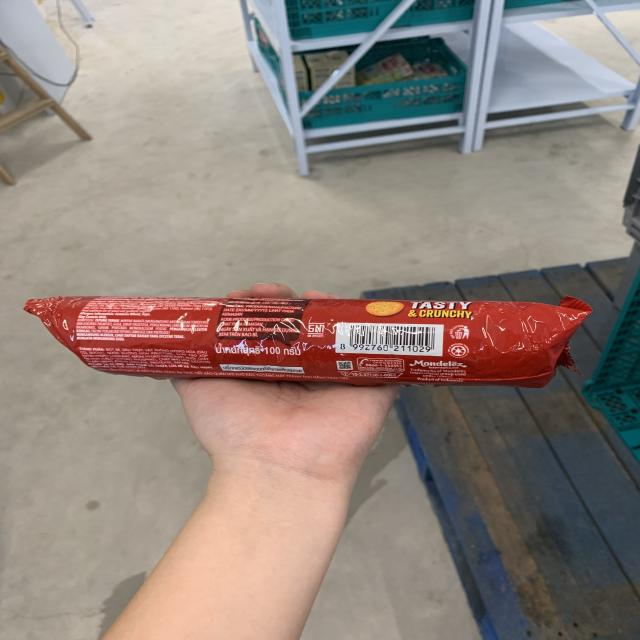object_name: (26, 294, 587, 387)
